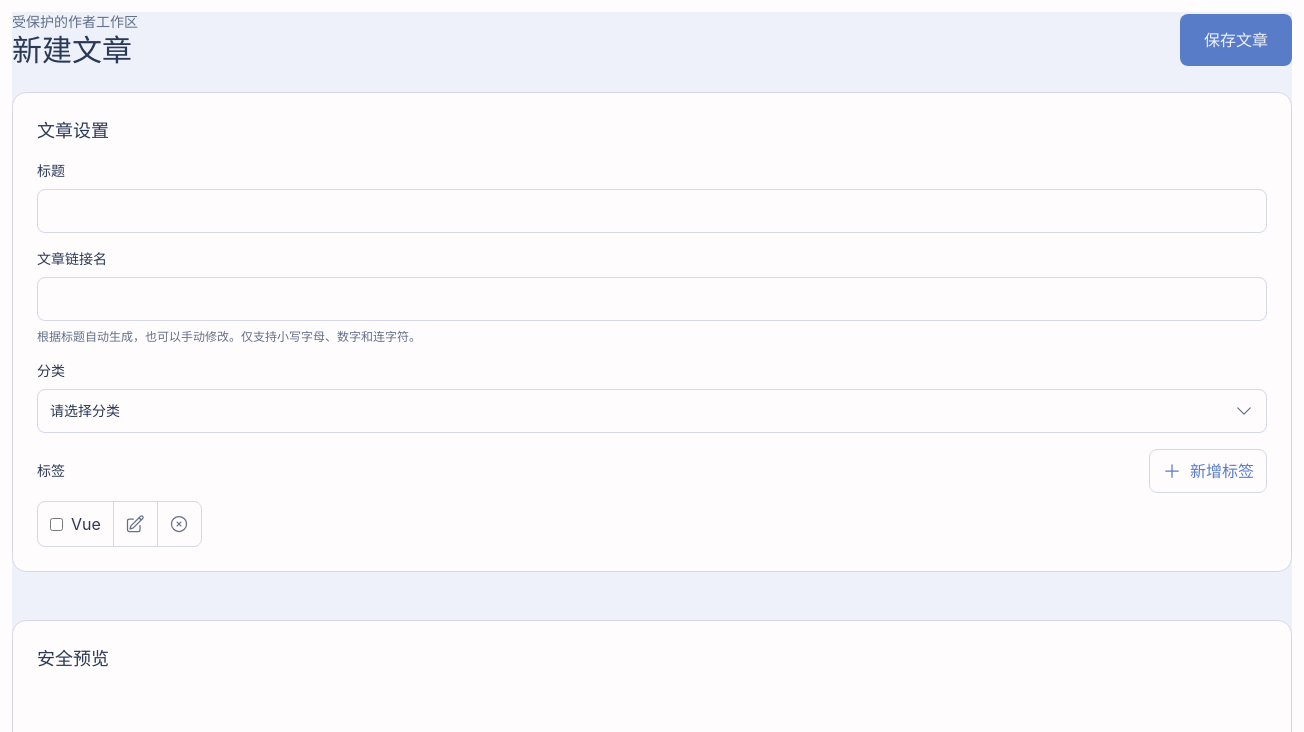
Test case: ArticleEditorView 标签管理 › 409 删除失败时保留标签与选择
Click the checkbox labelled "Vue" at (56, 524), box [50, 518, 63, 530]
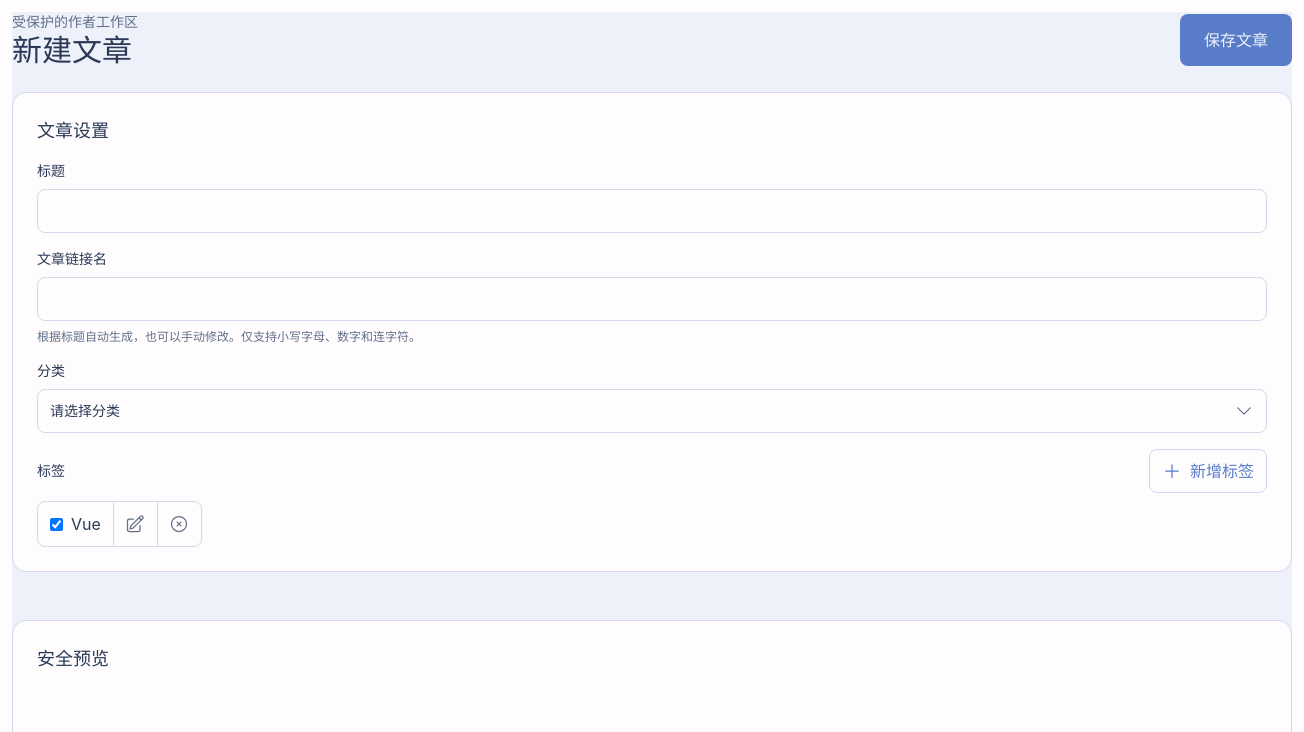
用户直接删除该标签。
Click the button named "删除标签“Vue”" at (179, 524), box [157, 502, 201, 546]
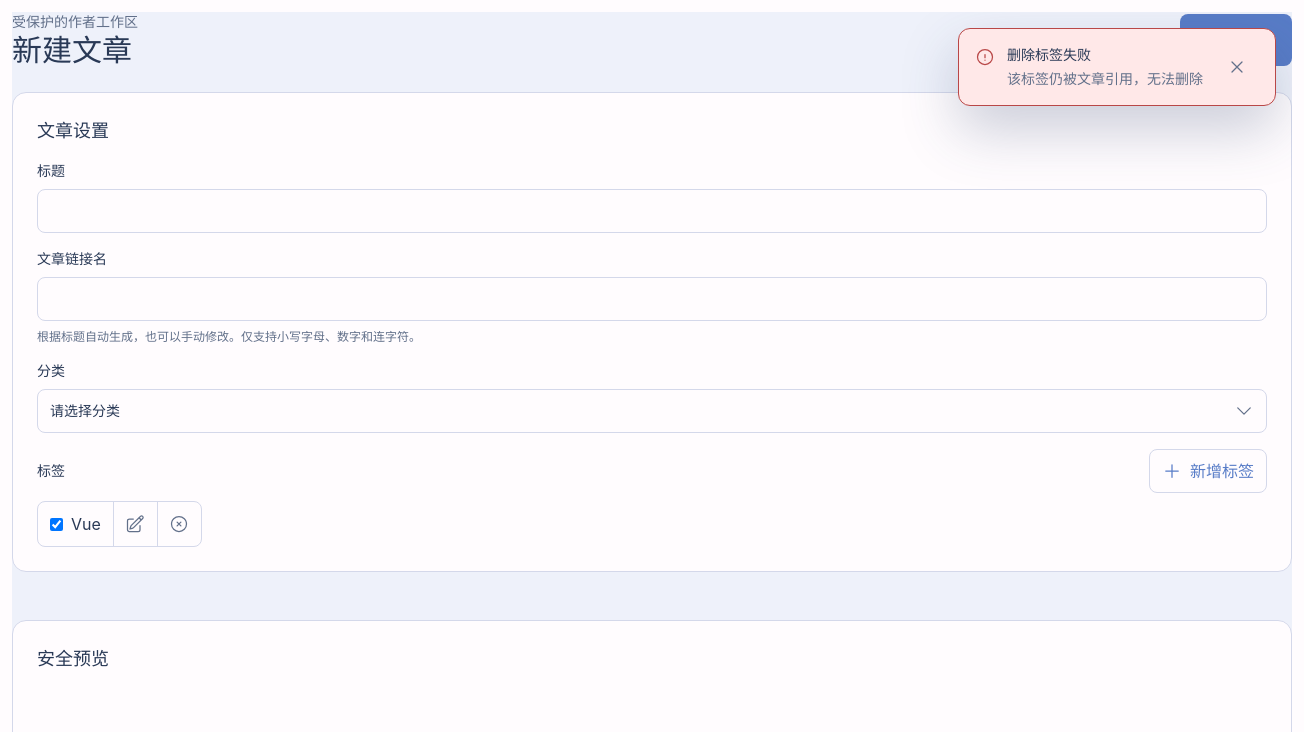
Expected: the checkbox labelled "Vue" is checked, [50, 518, 63, 530]
Expected: the text "删除标签失败" is shown, [1007, 46, 1091, 63]
Expected: the text "该标签仍被文章引用，无法删除" is shown, [1007, 69, 1203, 89]
